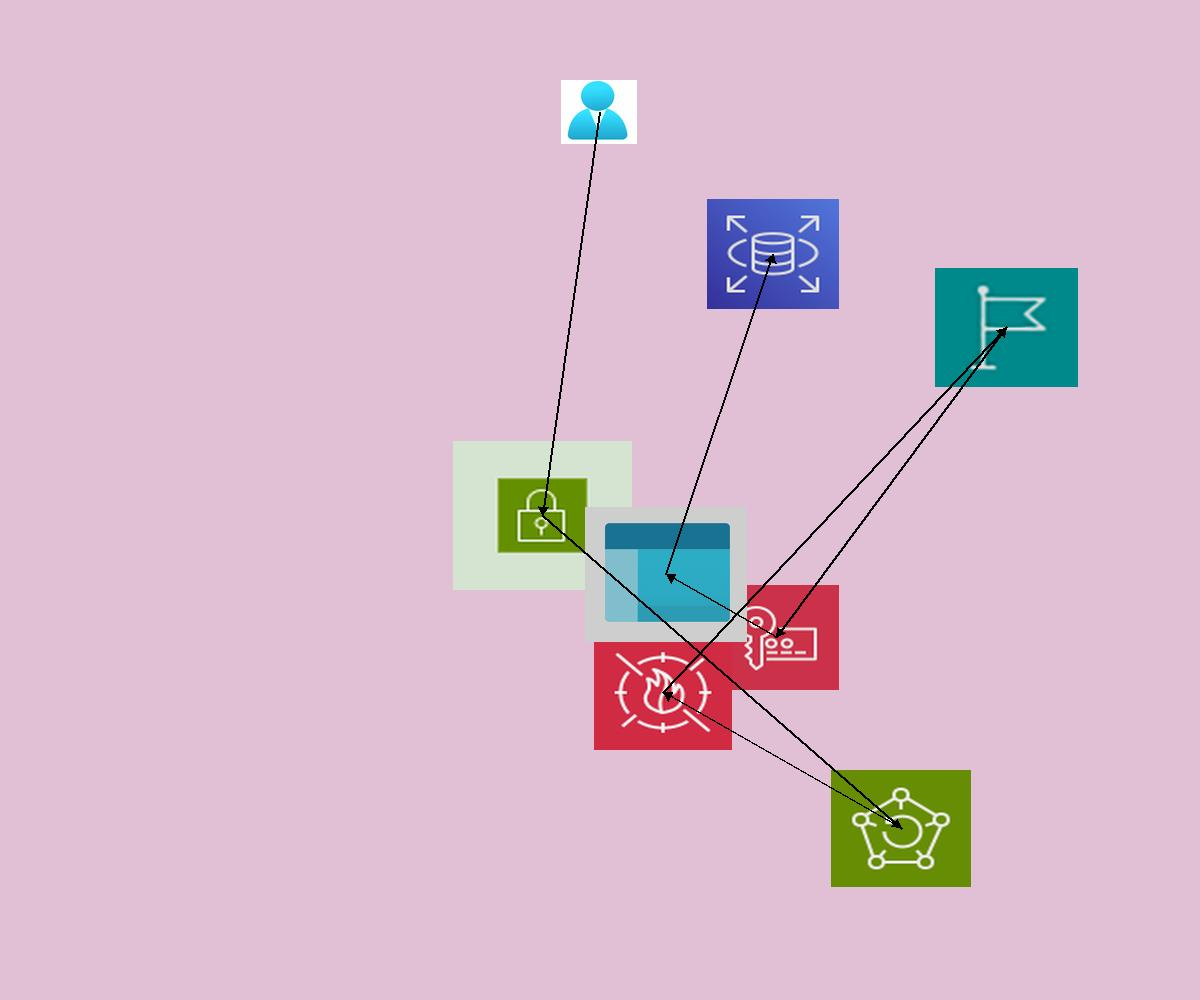AWS-Backup: (831, 770, 971, 887)
AWS-Key-Management-Service: (713, 585, 839, 690)
AWS-Public-subnet: (453, 441, 632, 590)
AWS-RDS: (707, 199, 839, 309)
AWS-Region: (935, 268, 1078, 387)
AWS-WAF: (594, 635, 732, 750)
Azure_management-portal: (585, 507, 747, 642)
Azure_users: (561, 80, 637, 144)
